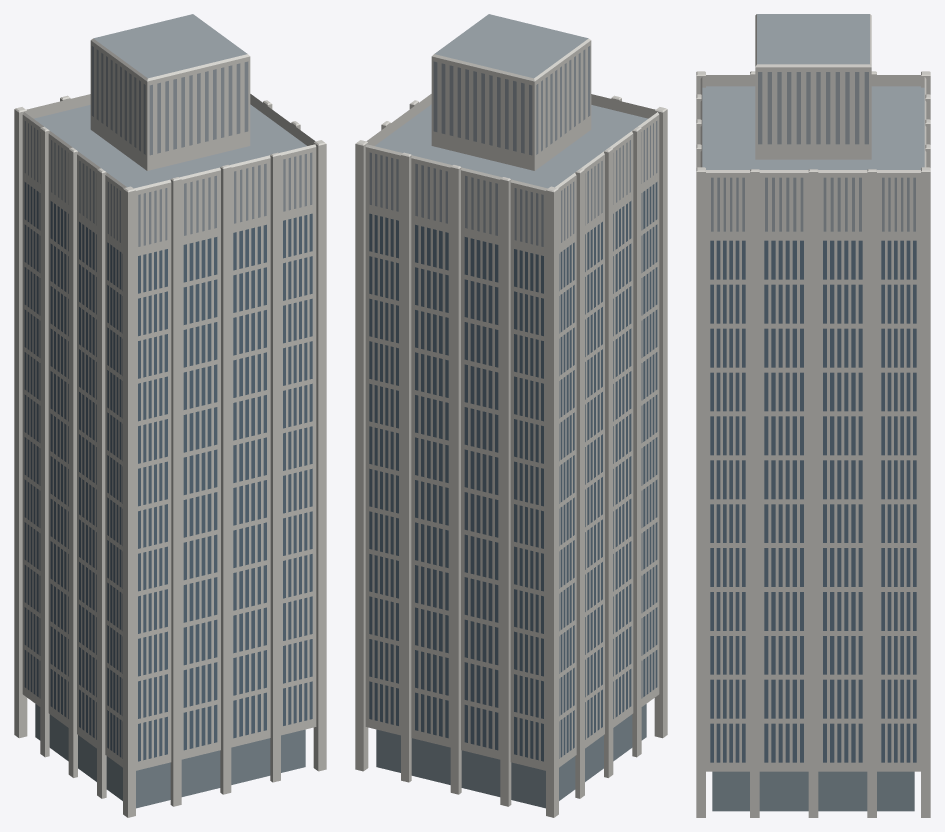
File: det-one-woodward.glb
The picture shows the model from 3 angles, left to right: view 1: azimuth 30°, elevation 25°; view 2: azimuth 150°, elevation 25°; view 3: azimuth 270°, elevation 25°; orthographic projection. The views are drawn at different scales.
Parts seen in each view (by area): view 1: One Woodward Avenue; view 2: One Woodward Avenue; view 3: One Woodward Avenue.
Part boxes in pixels (box(x1,y1,x2,y2)): One Woodward Avenue: box(14, 14, 326, 817); One Woodward Avenue: box(355, 14, 667, 817); One Woodward Avenue: box(696, 14, 930, 817).
Bounding box in the file's own units: 38.6 × 131 × 38.2.
